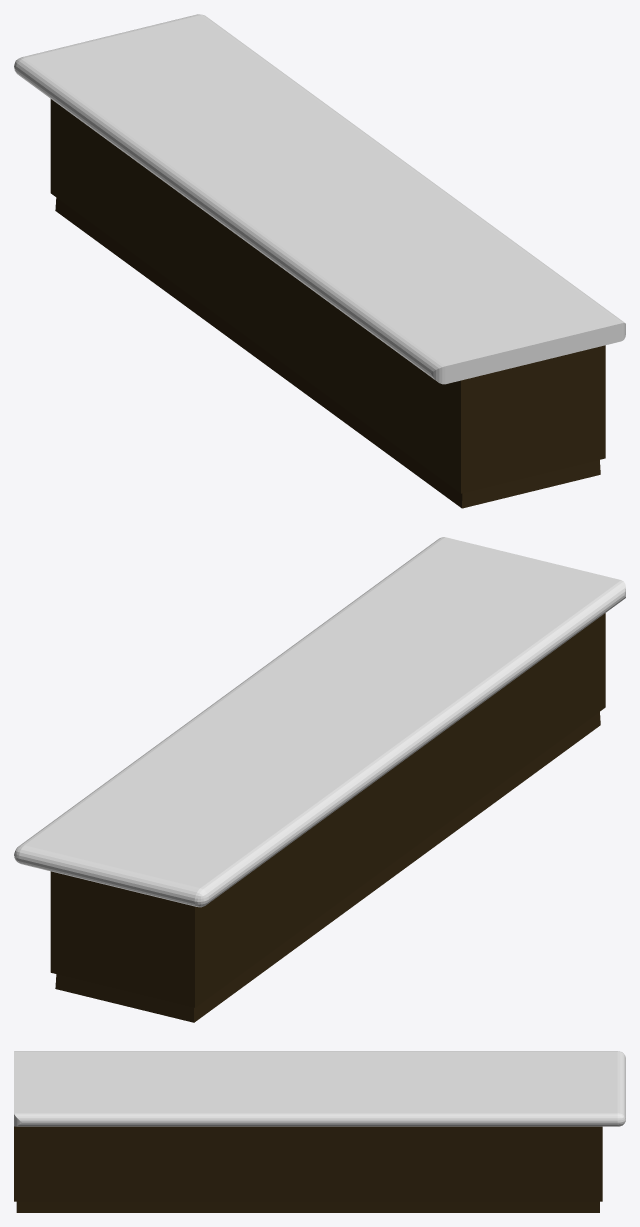
The model's file is UseThisBar.fbx.
3 renders of one model, top to bottom at view 1: azimuth 30°, elevation 25°; view 2: azimuth 150°, elevation 25°; view 3: azimuth 270°, elevation 25°, orthographic. The views are drawn at different scales.
Parts seen in each view (by area): view 1: Bar; view 2: Bar; view 3: Bar.
Part boxes in pixels (box(x1,y1,x2,y2)): Bar: box(14, 14, 625, 508); Bar: box(14, 537, 625, 1022); Bar: box(14, 1051, 625, 1212).
Size of the model in its own units: 267 by 196 by 1023.
